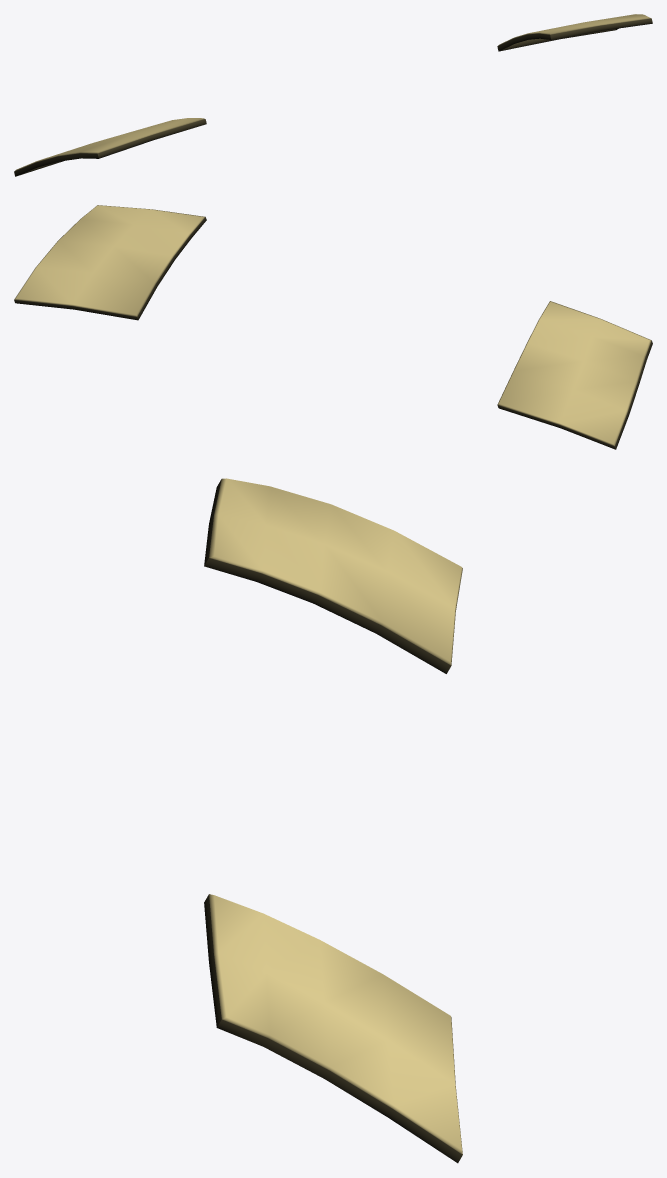
Rendered from MX5_RoundPopUp_Duco.fbx.
The picture shows the model from 3 angles, top to bottom: view 1: azimuth 30°, elevation 25°; view 2: azimuth 150°, elevation 25°; view 3: azimuth 270°, elevation 25°; orthographic projection. The views are drawn at different scales.
Parts seen in each view (by area): view 1: MX5_RoundPopUp_Duco; view 2: MX5_RoundPopUp_Duco; view 3: MX5_RoundPopUp_Duco.
Boxes of the visible parts, left/top/right/bottom form: MX5_RoundPopUp_Duco: left=14, top=14, right=652, bottom=176; MX5_RoundPopUp_Duco: left=14, top=205, right=652, bottom=449; MX5_RoundPopUp_Duco: left=204, top=478, right=462, bottom=1163.
Size of the model in its own units: 128 by 14.72 by 23.86.
